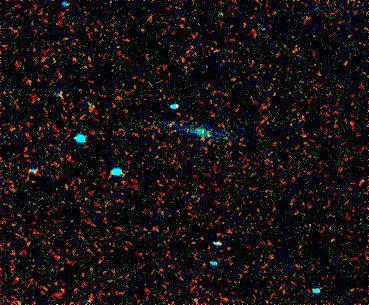star: (195, 126, 225, 156)
